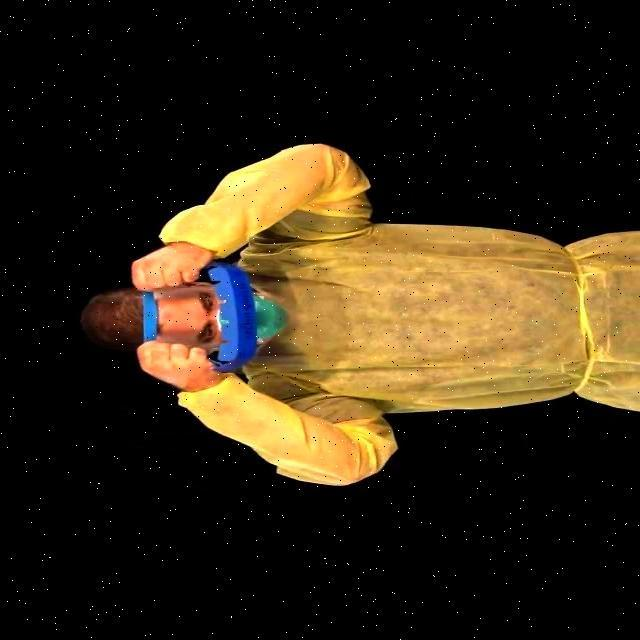no_apron: (140, 347, 212, 391), (136, 250, 198, 290)
